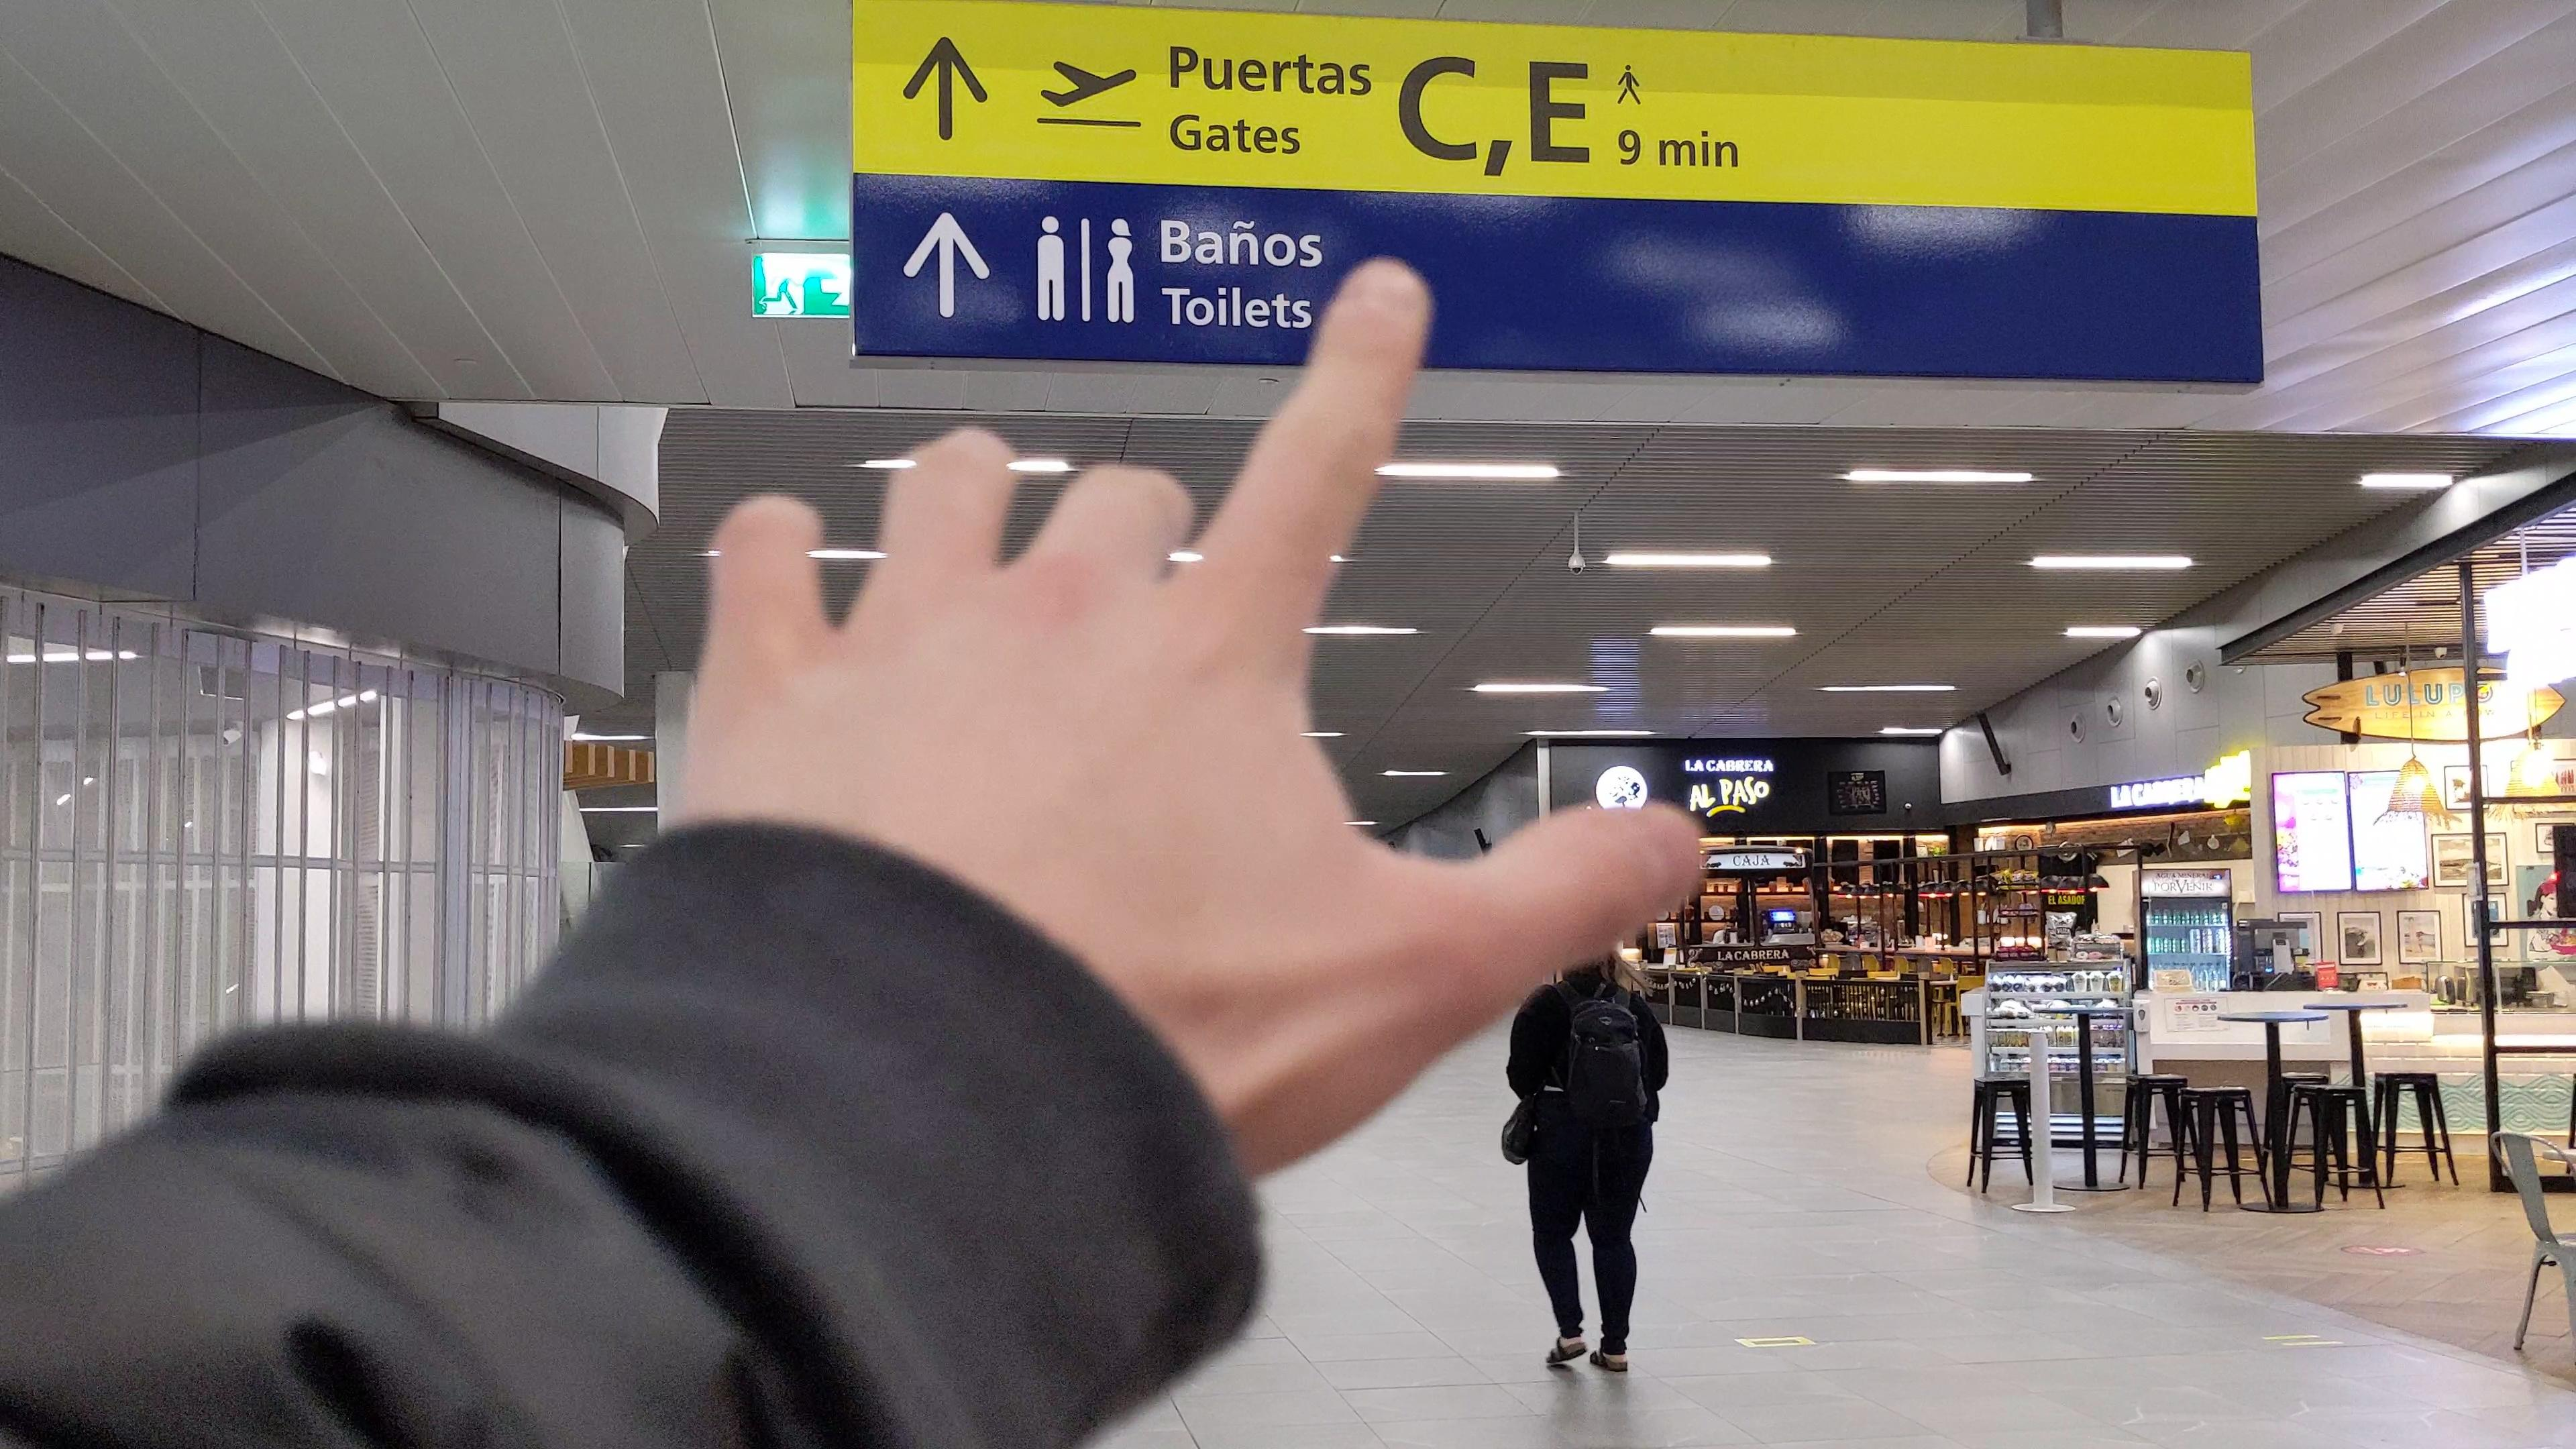airplane symbol: (1024, 37, 1155, 120)
bathrooms: (1028, 205, 1143, 329)
emergency exit: (757, 257, 807, 318)
emergency right arrow: (816, 257, 853, 313)
thin up arrow: (895, 202, 996, 327), (901, 34, 993, 147)
